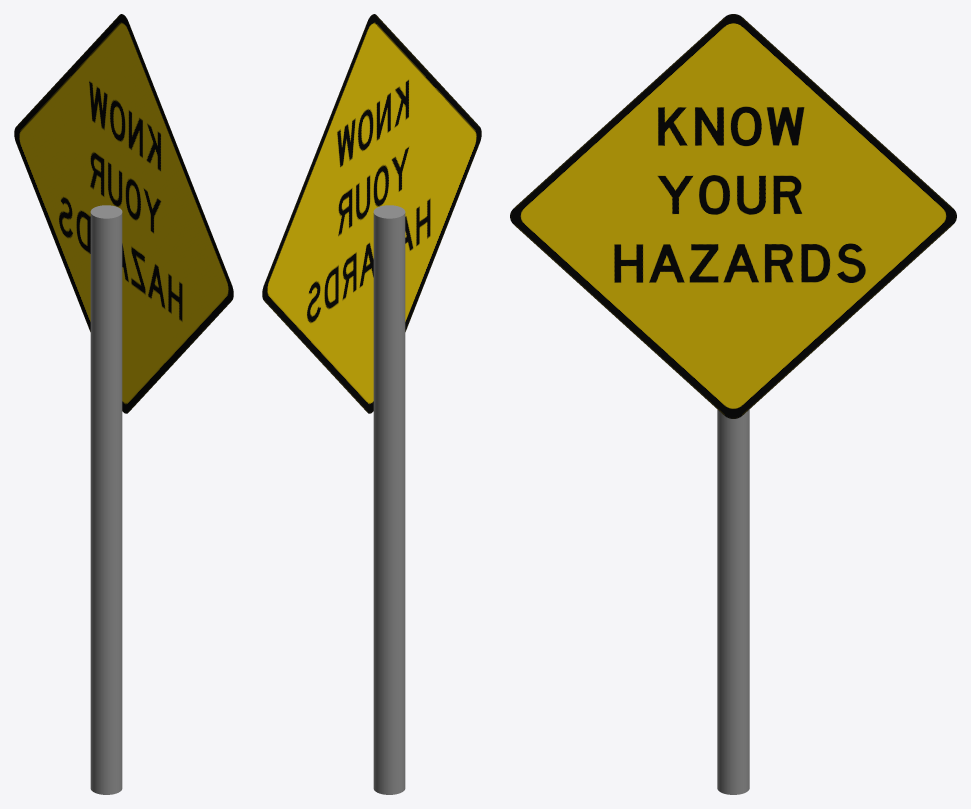
The picture shows the model from 3 angles, left to right: view 1: azimuth 30°, elevation 25°; view 2: azimuth 150°, elevation 25°; view 3: azimuth 270°, elevation 25°; orthographic projection.
Visible parts, largest first — view 1: Plane, Cylinder; view 2: Plane, Cylinder; view 3: Plane, Cylinder.
Part boxes in pixels (x1=…): Plane: x1=14, y1=14, x2=233, y2=413; Cylinder: x1=90, y1=205, x2=122, y2=794; Plane: x1=262, y1=14, x2=481, y2=413; Cylinder: x1=373, y1=205, x2=405, y2=794; Plane: x1=510, y1=14, x2=956, y2=418; Cylinder: x1=717, y1=409, x2=749, y2=794.
Bounding box in the file's own units: 0.1134 × 2.67 × 1.38.
Materials: 2 (1 with a texture image).
